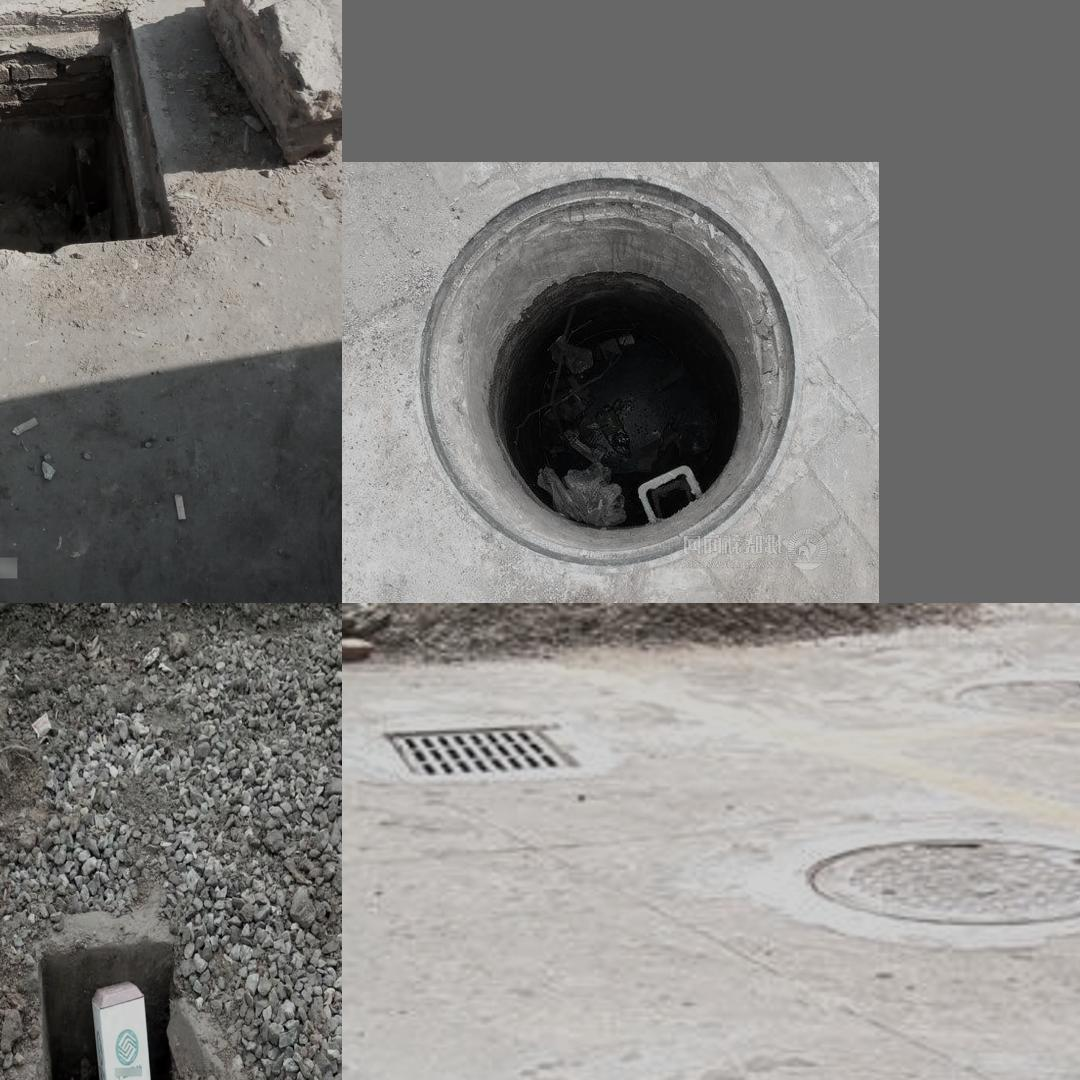lose: (410, 169, 801, 567), (0, 0, 208, 283), (32, 936, 207, 1080)
